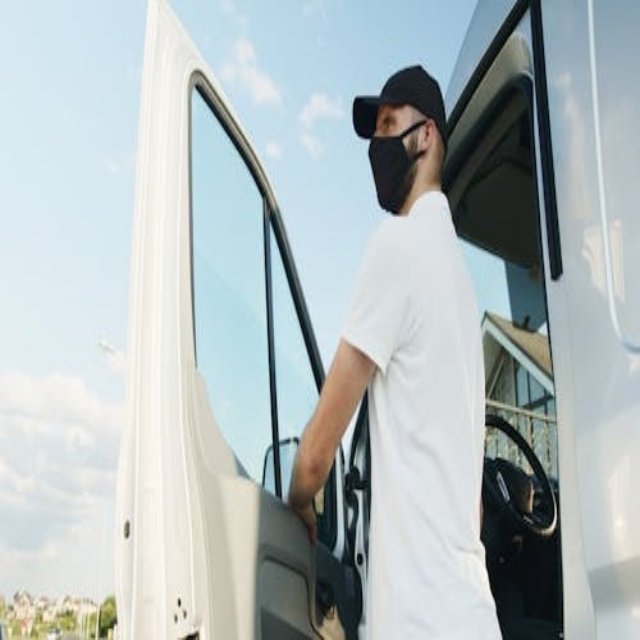Mascara: (368, 123, 428, 215)
Sin_gafas: (379, 116, 395, 130)
